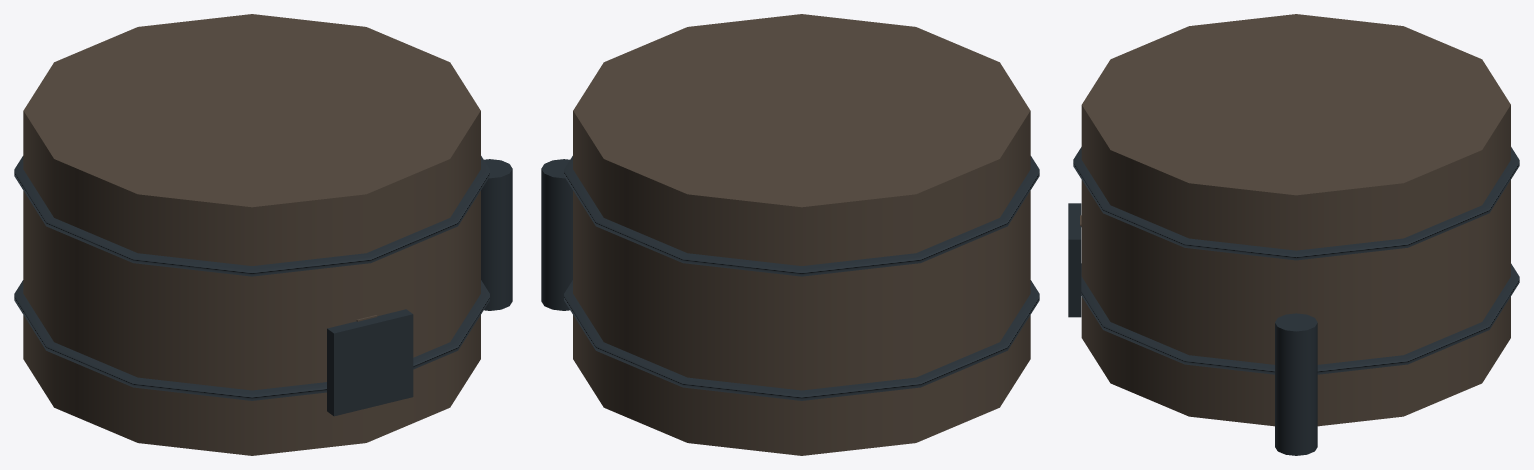
The model's file is vat-1.glb.
3 views of the same model, side by side, from view 1: azimuth 30°, elevation 25°; view 2: azimuth 150°, elevation 25°; view 3: azimuth 270°, elevation 25° (orthographic). The views are drawn at different scales.
Parts seen in each view (by area): view 1: vat/0/KR-230-1; view 2: vat/0/KR-230-1; view 3: vat/0/KR-230-1.
Boxes of the visible parts, x1=… form: vat/0/KR-230-1: x1=14, y1=14, x2=512, y2=455; vat/0/KR-230-1: x1=541, y1=14, x2=1039, y2=455; vat/0/KR-230-1: x1=1068, y1=14, x2=1519, y2=455.
Size of the model in its own units: 5.85 by 3 by 5.25.
